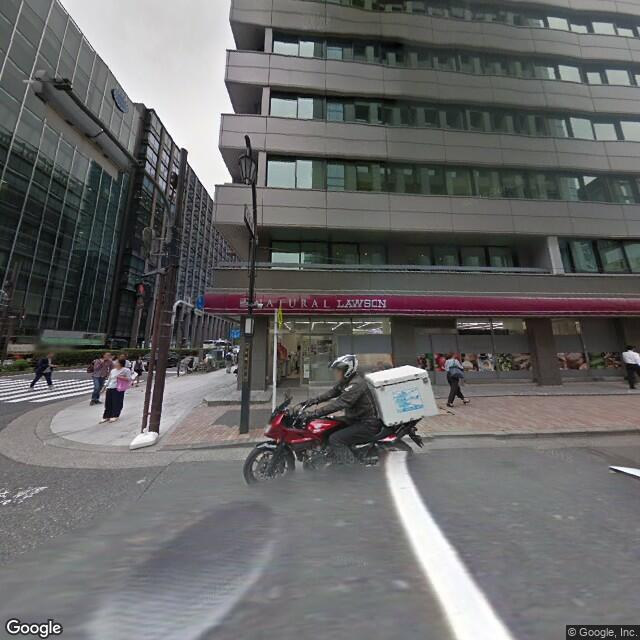lawson: (202, 288, 640, 320)
